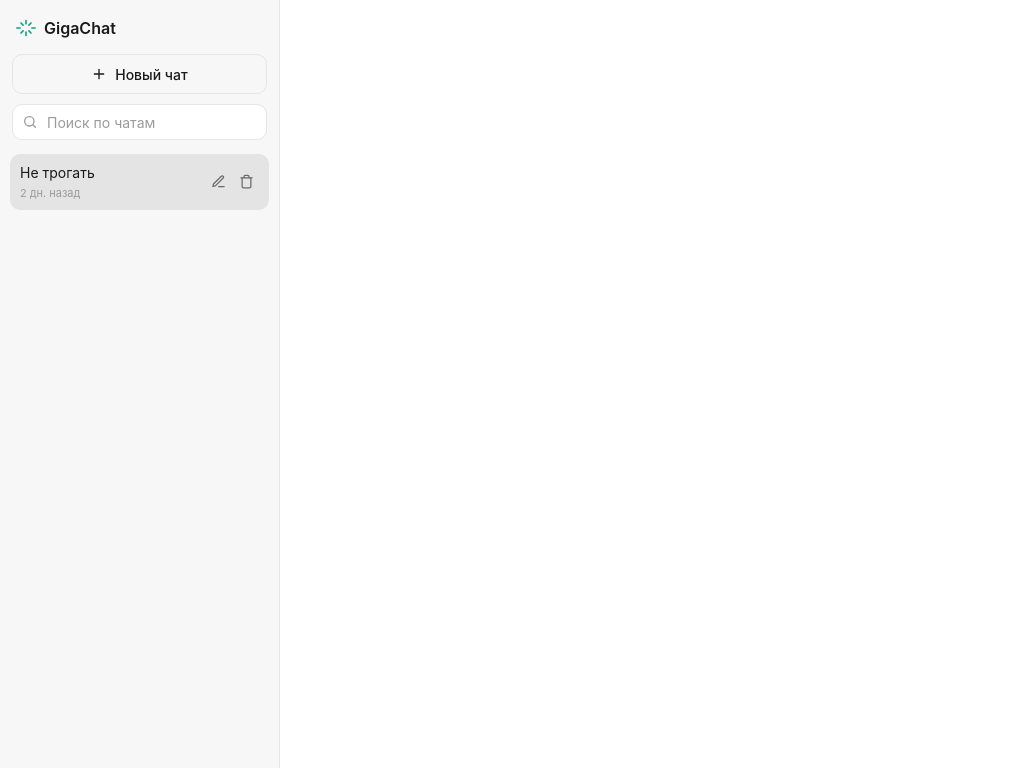
Scenario: Sidebar › удаление чата › отмена диалога оставляет чат на месте
Click the button named "удалить чат": coordinates (246, 182) [233,169,259,195]
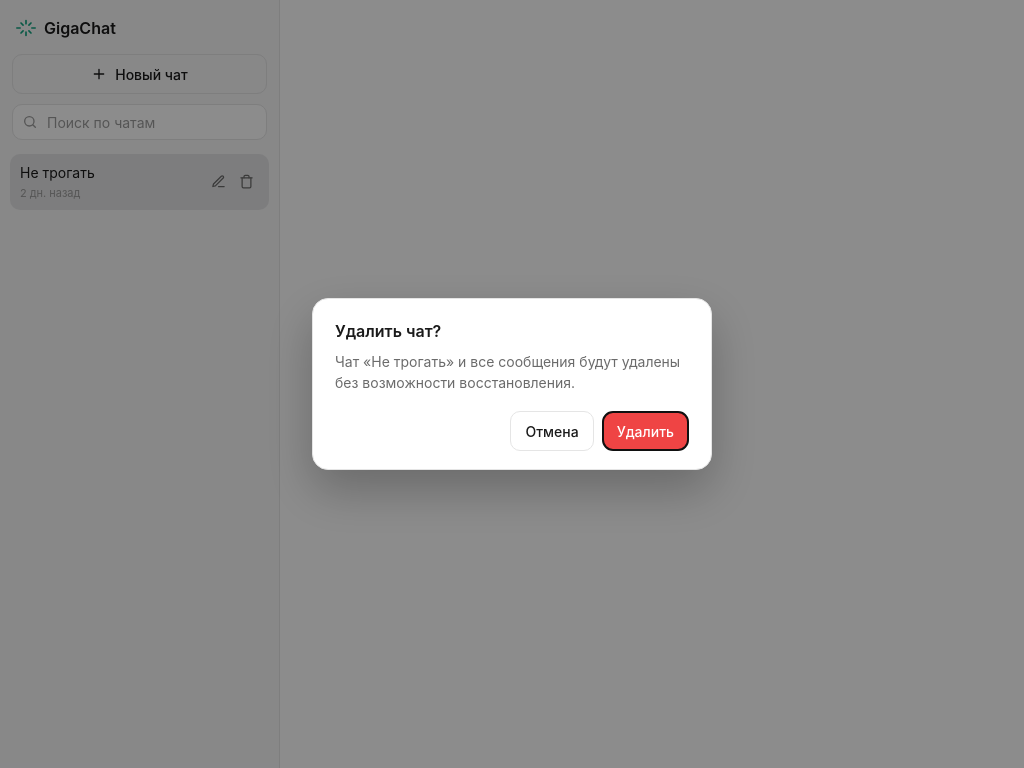
Click the button "Отмена": coordinates (552, 431) [510,411,594,451]
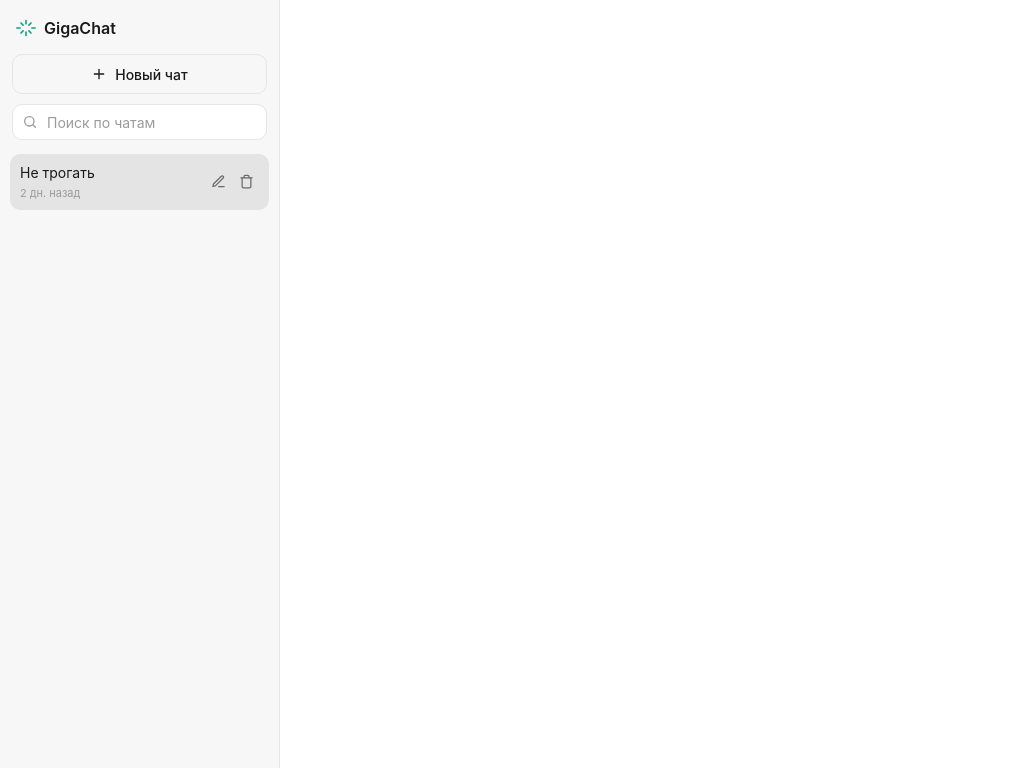
Expected: the text "Не трогать" is shown, [20,164,95,181]
Result: the dialog is gone
